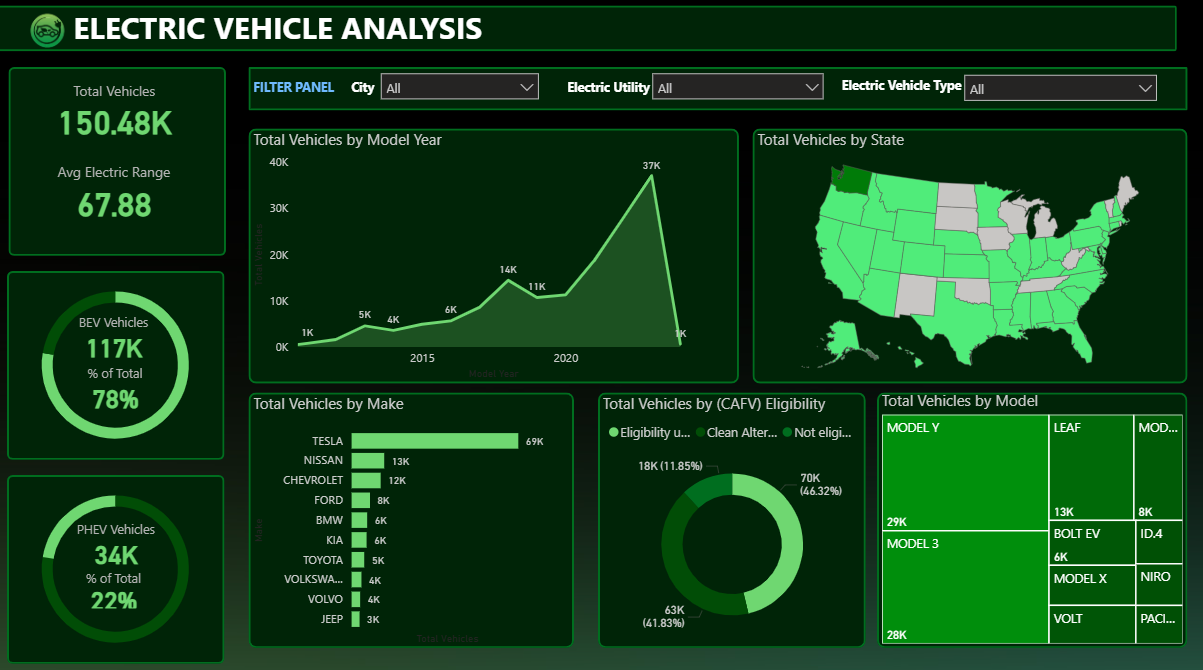

What the dashboard file says about the page in this screenshot:
{"tool":"powerbi","page":{"name":"Page 1","canvas":[1280,720],"ordinal":0},"visuals":[{"type":"shape","box":[0,8.1,1250,48.4],"z":0},{"type":"textbox","box":[74.2,3.2,477.4,58.1],"z":1000},{"type":"shape","box":[11.3,73.7,230.6,200.3],"z":2000},{"type":"card","title":"Total Vehicles","fields":{"Values":["Electric_Vehicle_Population_Data.Total Vehicles"]},"box":[9.5,87.5,227.5,63.6],"z":3000},{"type":"card","title":"Avg Electric Range","fields":{"Values":["Avg(Electric_Vehicle_Population_Data.Electric Range)"]},"box":[9.4,173.9,226.8,66.1],"z":4000},{"type":"shape","box":[9.4,289.1,230.6,200.3],"z":5000},{"type":"shape","box":[9.4,506.5,230.6,200.3],"z":6000},{"type":"donutChart","fields":{"Category":["Electric_Vehicle_Population_Data.Electric Vehicle Type"],"Y":["Electric_Vehicle_Population_Data.Total Vehicles"]},"box":[19.1,286.3,210,205.2],"z":7000},{"type":"card","title":"BEV Vehicles","fields":{"Values":["Electric_Vehicle_Population_Data.BEV Vehicles"]},"box":[33.4,334,178.1,54.1],"z":8000},{"type":"card","title":"% of Total","fields":{"Values":["Electric_Vehicle_Population_Data.% of BEV"]},"box":[35,388.1,178.1,54.1],"z":9000},{"type":"donutChart","fields":{"Category":["Electric_Vehicle_Population_Data.Electric Vehicle Type"],"Y":["Electric_Vehicle_Population_Data.Total Vehicles"]},"box":[19.1,502.6,210,205.2],"z":10000},{"type":"card","title":"PHEV Vehicles","fields":{"Values":["Electric_Vehicle_Population_Data.PHEV Vehicles"]},"box":[46.1,553.5,157.5,52.5],"z":11000},{"type":"card","title":"% of Total","fields":{"Values":["Electric_Vehicle_Population_Data.% of PHEV"]},"box":[39.8,606,165.4,46.1],"z":12000},{"type":"shape","box":[265.6,73.2,995.7,46.1],"z":13000},{"type":"shape","box":[265.6,138.4,520.1,270.4],"z":14000},{"type":"areaChart","fields":{"Category":["Electric_Vehicle_Population_Data.Model Year"],"Y":["Electric_Vehicle_Population_Data.Total Vehicles"]},"box":[265.6,138.4,475.6,270.4],"z":15000},{"type":"shape","box":[800.1,138.4,461.3,270.4],"z":16000},{"type":"shape","box":[266.1,417.7,345.2,271],"z":17000},{"type":"barChart","fields":{"Y":["Electric_Vehicle_Population_Data.Total Vehicles"],"Category":["Electric_Vehicle_Population_Data.Make"]},"box":[266.1,417.7,317.7,271],"z":18000},{"type":"shape","box":[635.5,417.7,283.9,271],"z":19000},{"type":"donutChart","title":"Total Vehicles by  (CAFV) Eligibility","fields":{"Category":["Electric_Vehicle_Population_Data.Clean Alternative Fuel Vehicle (CAFV) Eligibility"],"Y":["Electric_Vehicle_Population_Data.Total Vehicles"]},"box":[635.5,417.7,283.9,271],"z":20000},{"type":"shape","box":[932.3,417.7,329,271],"z":21000},{"type":"treemap","fields":{"Group":["Electric_Vehicle_Population_Data.Model"],"Values":["Electric_Vehicle_Population_Data.Total Vehicles"]},"box":[932.3,414.5,329,274.2],"z":22000},{"type":"textbox","box":[266.1,79,121,33.9],"z":23000},{"type":"slicer","fields":{"Values":["Electric_Vehicle_Population_Data.City"]},"box":[396.8,69.4,187.1,41.9],"z":24000},{"type":"textbox","box":[366.1,79,59.7,33.9],"z":25000},{"type":"slicer","fields":{"Values":["Electric_Vehicle_Population_Data.Electric Utility"]},"box":[683.9,69.4,201.6,41.9],"z":26000},{"type":"textbox","box":[595.2,79,112.9,33.9],"z":27000},{"type":"slicer","fields":{"Values":["Electric_Vehicle_Population_Data.Electric Vehicle Type"]},"box":[1014.5,71,224.2,41.9],"z":28000},{"type":"textbox","box":[885.5,77.4,151.6,33.9],"z":29000},{"type":"image","box":[19.4,0,66.1,69.4],"z":30000},{"type":"shapeMap","fields":{"Category":["Electric_Vehicle_Population_Data.State"],"Value":["Electric_Vehicle_Population_Data.Total Vehicles"]},"box":[800.1,138.4,461.3,270.4],"z":31000}]}

Visuals, with their boxes in screenshot pixels (x1, y1, x2, y2), scaled from the page's 1280x720 canvas onto the 1203x670 screenshot:
shape: locate(0, 8, 1175, 53)
textbox: locate(70, 3, 518, 57)
shape: locate(11, 69, 227, 255)
"Total Vehicles" card: locate(9, 81, 223, 141)
"Avg Electric Range" card: locate(9, 162, 222, 223)
shape: locate(9, 269, 226, 455)
shape: locate(9, 471, 226, 658)
donutChart - Electric_Vehicle_Population_Data.Electric Vehicle Type x Electric_Vehicle_Population_Data.Total Vehicles: locate(18, 266, 215, 457)
"BEV Vehicles" card: locate(31, 311, 199, 361)
"% of Total" card: locate(33, 361, 200, 411)
donutChart - Electric_Vehicle_Population_Data.Electric Vehicle Type x Electric_Vehicle_Population_Data.Total Vehicles: locate(18, 468, 215, 659)
"PHEV Vehicles" card: locate(43, 515, 191, 564)
"% of Total" card: locate(37, 564, 193, 607)
shape: locate(250, 68, 1185, 111)
shape: locate(250, 129, 738, 380)
areaChart - Electric_Vehicle_Population_Data.Model Year x Electric_Vehicle_Population_Data.Total Vehicles: locate(250, 129, 697, 380)
shape: locate(752, 129, 1186, 380)
shape: locate(250, 389, 575, 641)
barChart - Electric_Vehicle_Population_Data.Total Vehicles x Electric_Vehicle_Population_Data.Make: locate(250, 389, 549, 641)
shape: locate(597, 389, 864, 641)
"Total Vehicles by  (CAFV) Eligibility" donutChart: locate(597, 389, 864, 641)
shape: locate(876, 389, 1185, 641)
treemap - Electric_Vehicle_Population_Data.Model x Electric_Vehicle_Population_Data.Total Vehicles: locate(876, 386, 1185, 641)
textbox: locate(250, 74, 364, 105)
slicer - Electric_Vehicle_Population_Data.City: locate(373, 65, 549, 104)
textbox: locate(344, 74, 400, 105)
slicer - Electric_Vehicle_Population_Data.Electric Utility: locate(643, 65, 832, 104)
textbox: locate(559, 74, 666, 105)
slicer - Electric_Vehicle_Population_Data.Electric Vehicle Type: locate(953, 66, 1164, 105)
textbox: locate(832, 72, 975, 104)
image: locate(18, 0, 80, 65)
shapeMap - Electric_Vehicle_Population_Data.State x Electric_Vehicle_Population_Data.Total Vehicles: locate(752, 129, 1186, 380)
